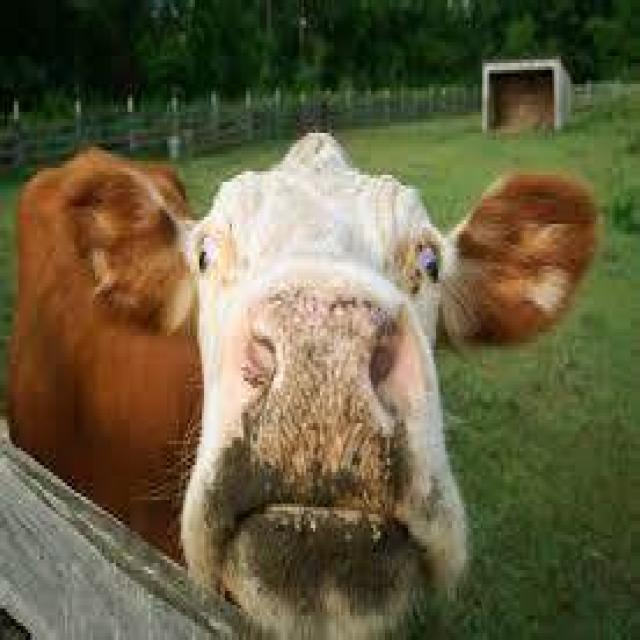cow: (26, 133, 598, 640)
